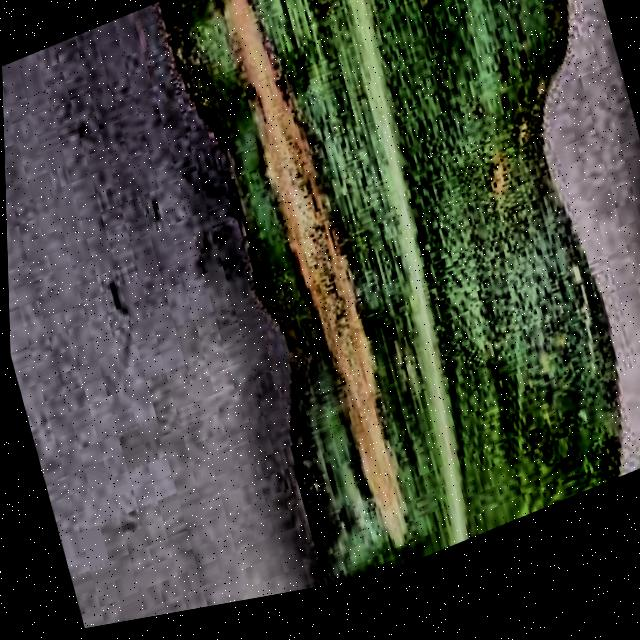blight: (167, 0, 640, 610)
